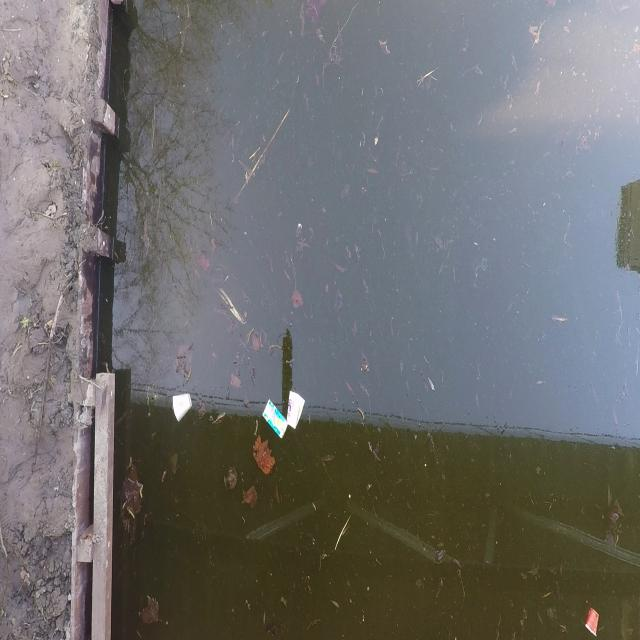Non plastique: (260, 399, 288, 443), (287, 384, 306, 439), (169, 390, 195, 426), (582, 605, 602, 640)
